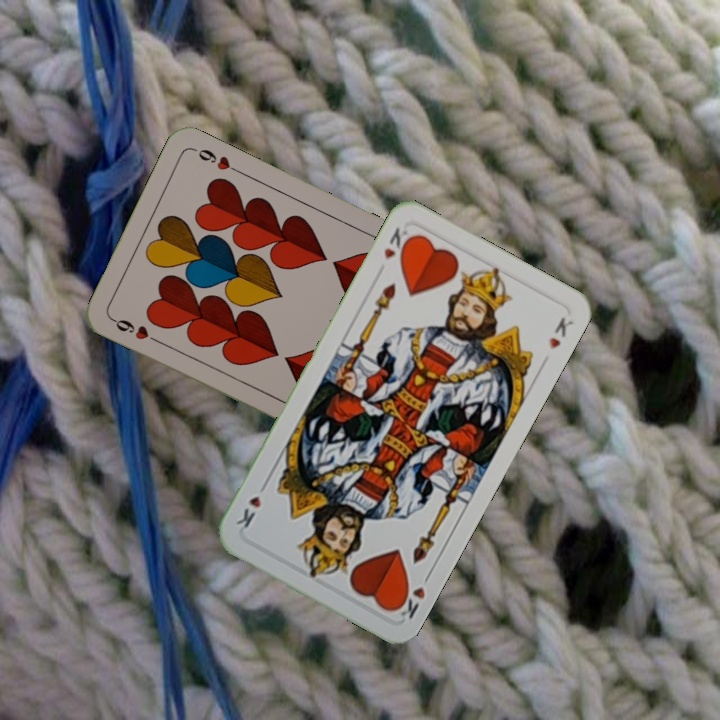H9: (108, 314, 163, 346)
HK: (390, 568, 434, 622), (379, 223, 415, 263)
